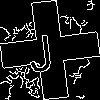J: (25, 25, 55, 73)
